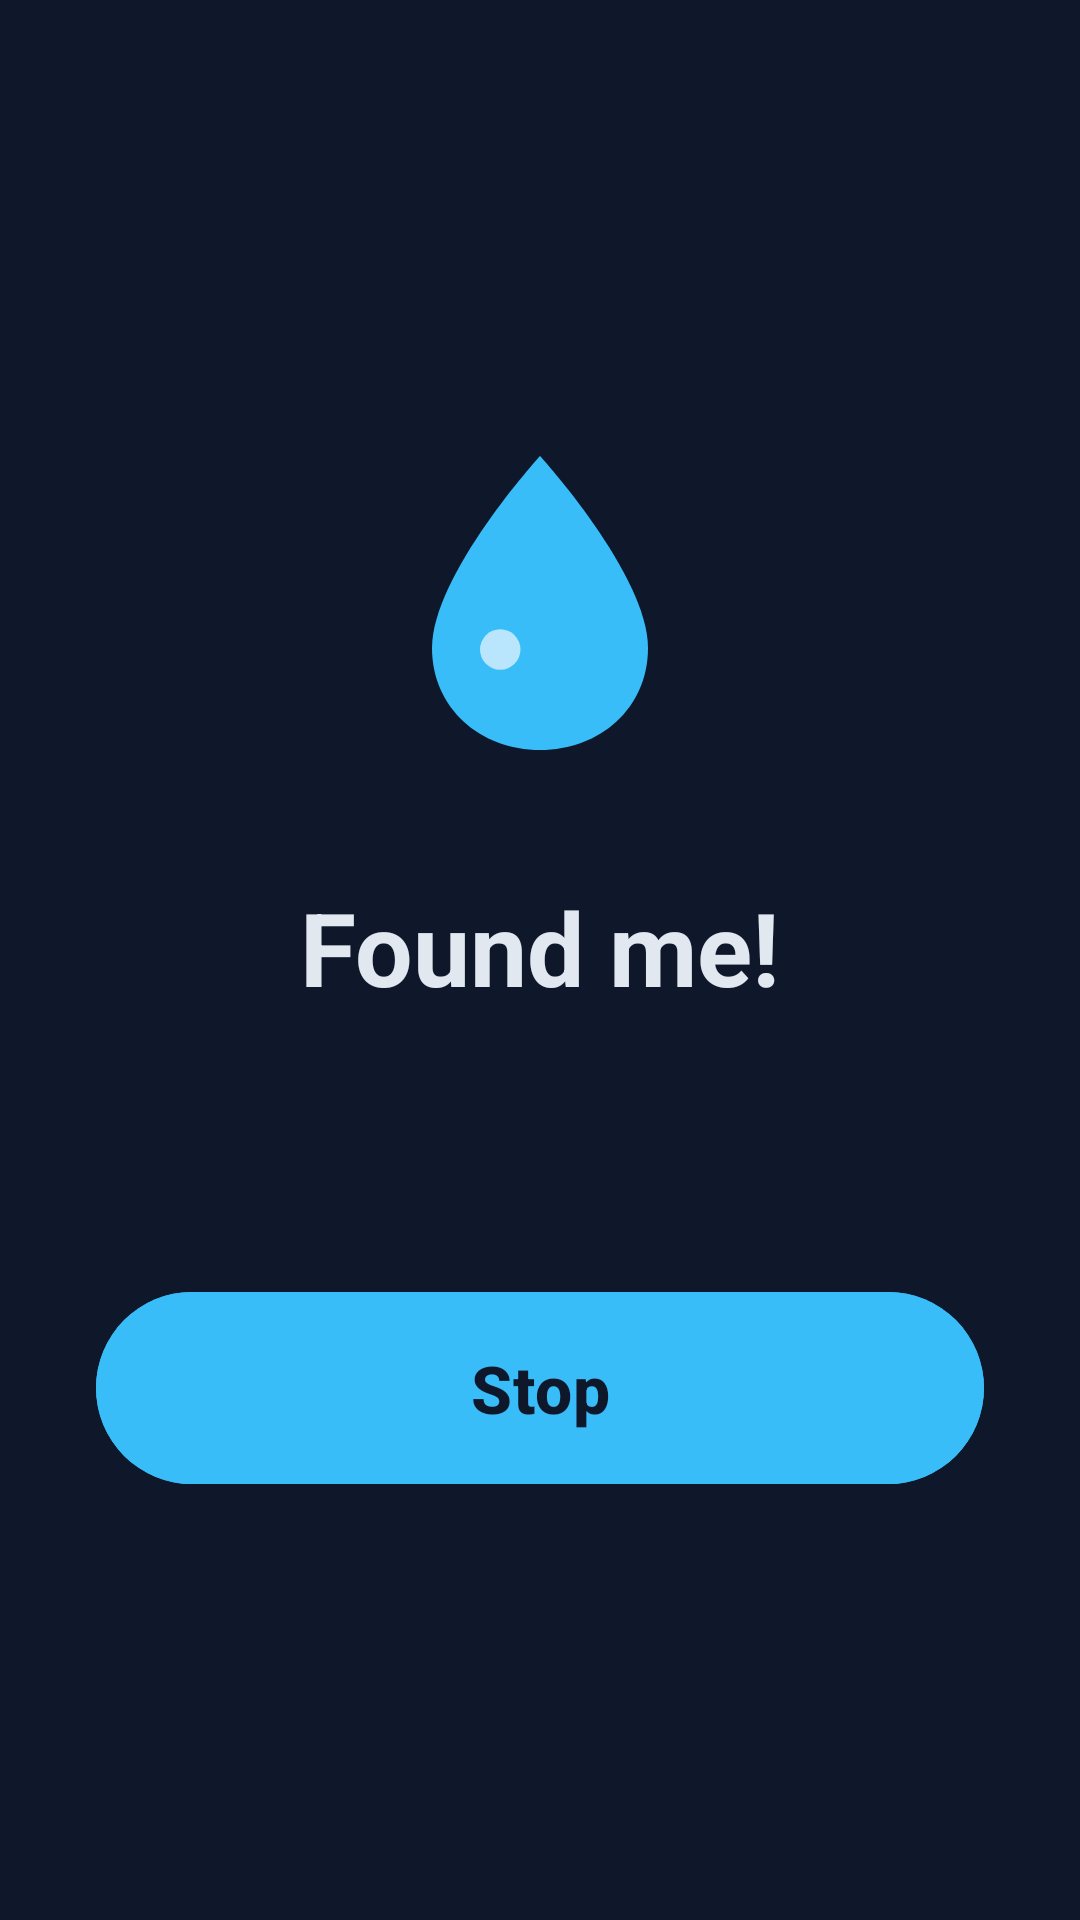

Where icons sit on this 1080x1920 app screen, as (x1, y1, x2, y2):
drop: (432, 456, 648, 750)
